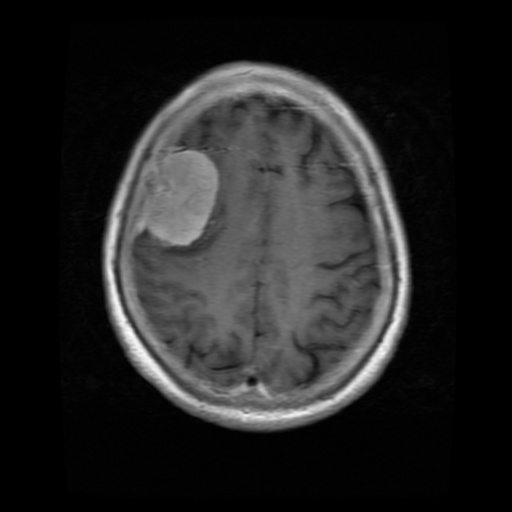meningioma: (145, 150, 217, 242)
